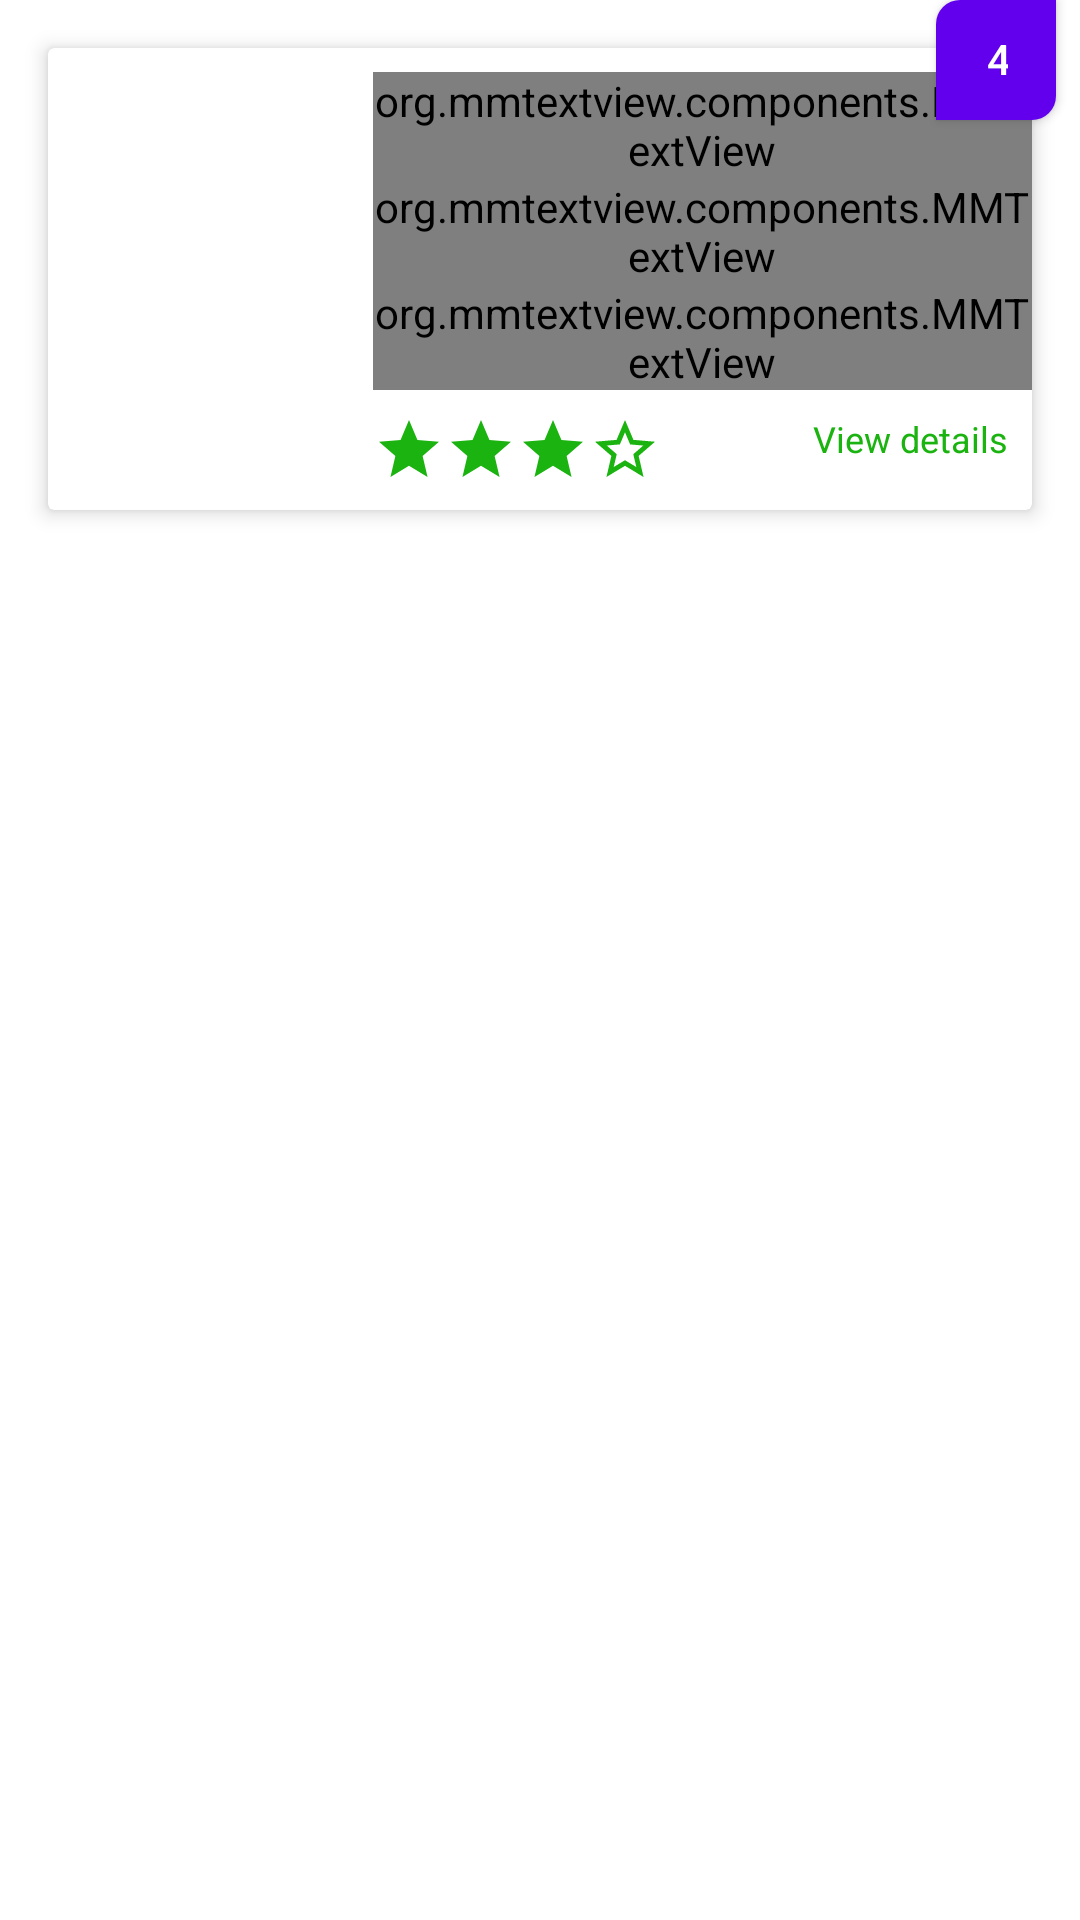

Named icons in this screenshot (1080w x 1920h) and their bounding boxes, (x1, y1, x2, y2):
star: (379, 420, 439, 477), (451, 420, 511, 477), (523, 420, 583, 477)
star border: (595, 420, 655, 477)
